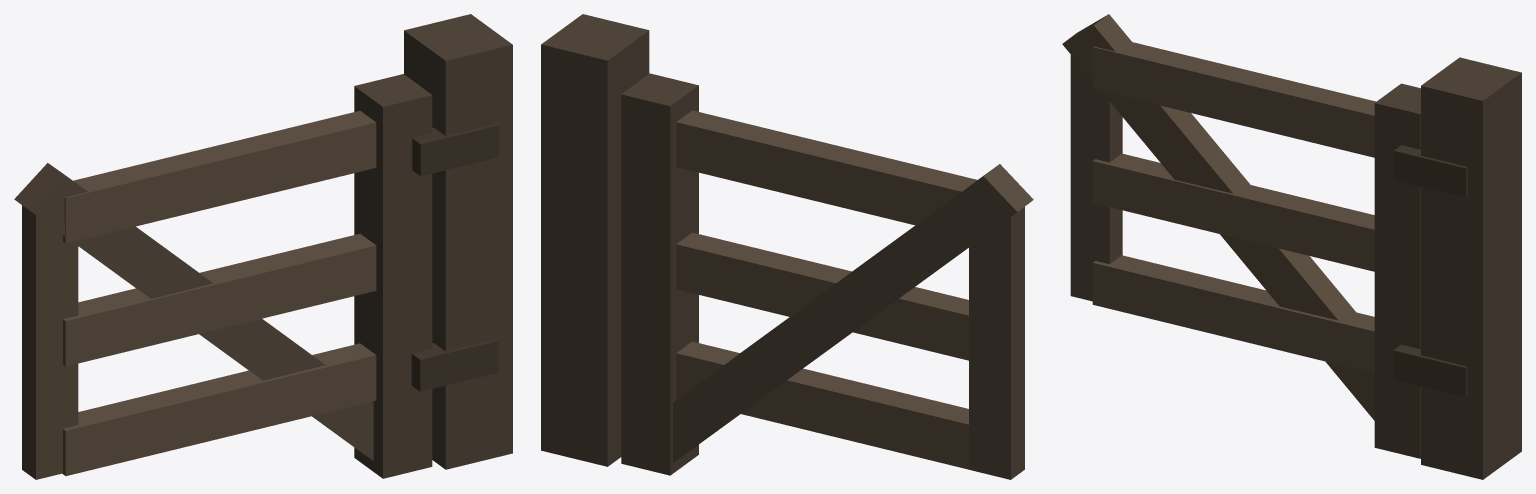
File: GateRight.fbx
3 renders of one model, left to right at view 1: azimuth 30°, elevation 25°; view 2: azimuth 150°, elevation 25°; view 3: azimuth 330°, elevation 25°, orthographic. The views are drawn at different scales.
Parts seen in each view (by area): view 1: GateRight; view 2: GateRight; view 3: GateRight.
Part boxes in pixels (<box>): GateRight: <box>14,14,512,479</box>; GateRight: <box>541,14,1033,479</box>; GateRight: <box>1062,14,1521,479</box>.
Size of the model in its own units: 5.87 by 4.9 by 0.9562.
